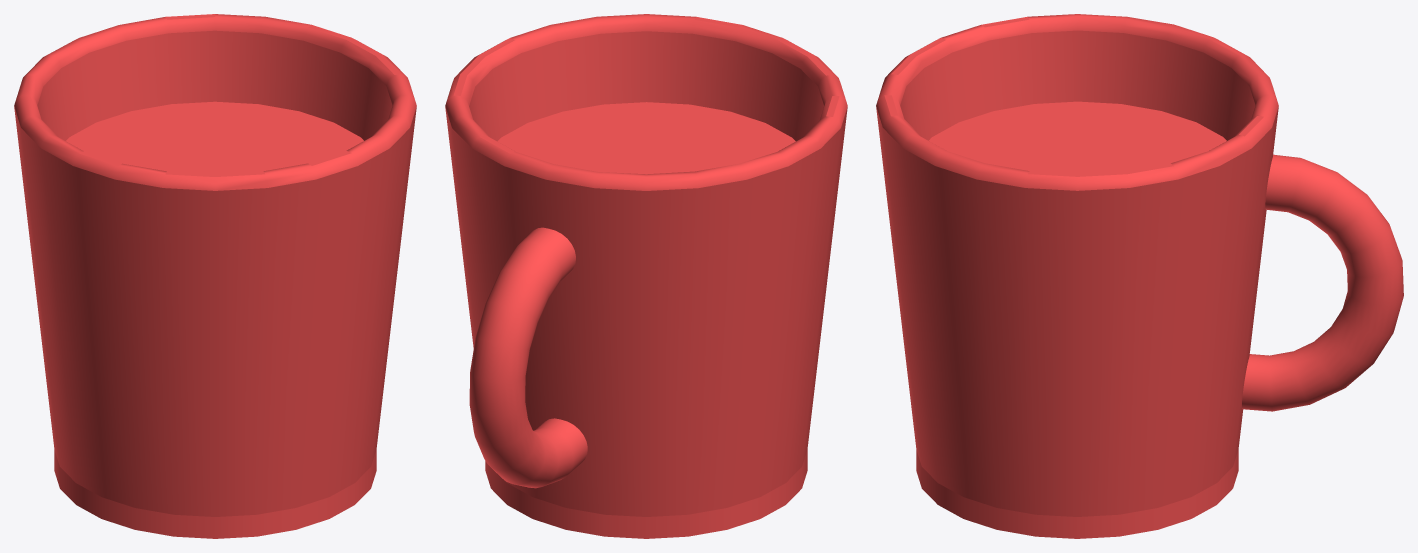
File: coffeeCup_1.dae
3 views of the same model, side by side, from view 1: azimuth 30°, elevation 25°; view 2: azimuth 150°, elevation 25°; view 3: azimuth 270°, elevation 25° (orthographic).
Parts seen in each view (by area): view 1: SketchUp (×9); view 2: SketchUp (×10); view 3: SketchUp (×10).
Boxes of the visible parts, <box> form: SketchUp (×9): <box>14,14,416,538</box>; SketchUp (×10): <box>445,14,847,538</box>; SketchUp (×10): <box>876,14,1403,538</box>.
Bounding box in the file's own units: 39.37 × 51.59 × 40.5.
